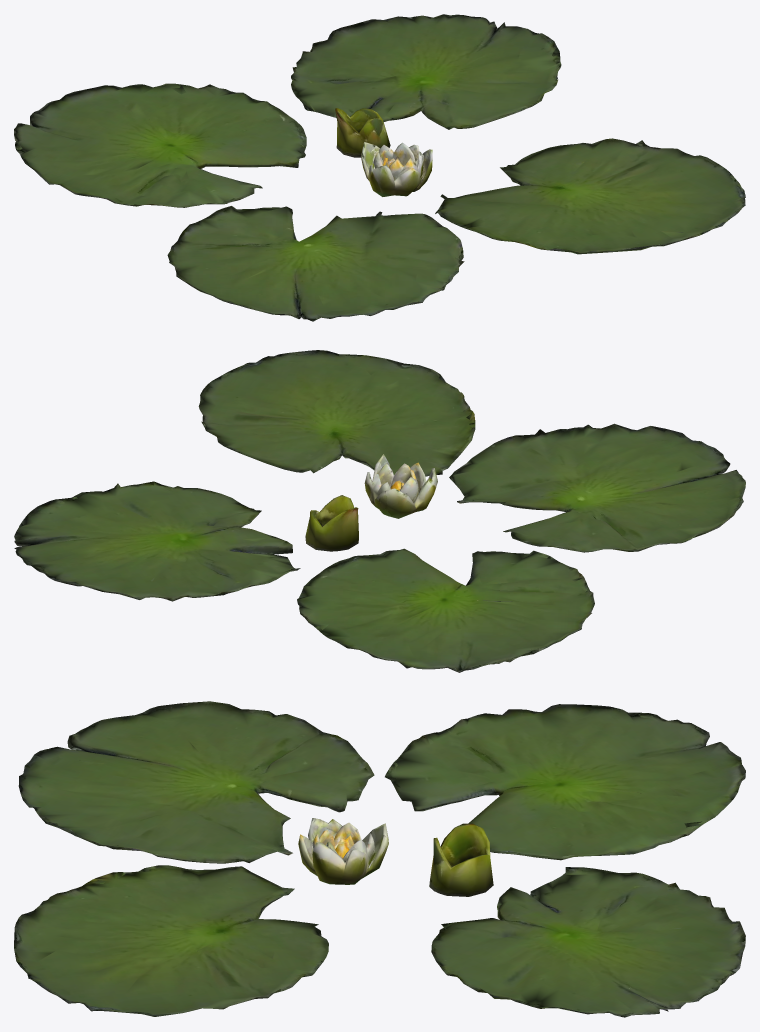
The model's file is plant_lily_b.glb.
3 views of the same model, one above another, from view 1: azimuth 30°, elevation 25°; view 2: azimuth 150°, elevation 25°; view 3: azimuth 270°, elevation 25° (orthographic). The views are drawn at different scales.
Parts seen in each view (by area): view 1: lo; view 2: lo; view 3: lo.
Part boxes in pixels (x1,y1,x2,y2): lo: [14, 14, 745, 321]; lo: [14, 350, 745, 672]; lo: [14, 701, 745, 1017].
Size of the model in its own units: 1.9 by 0.1479 by 1.9.
Materials: 1 (1 with a texture image).
